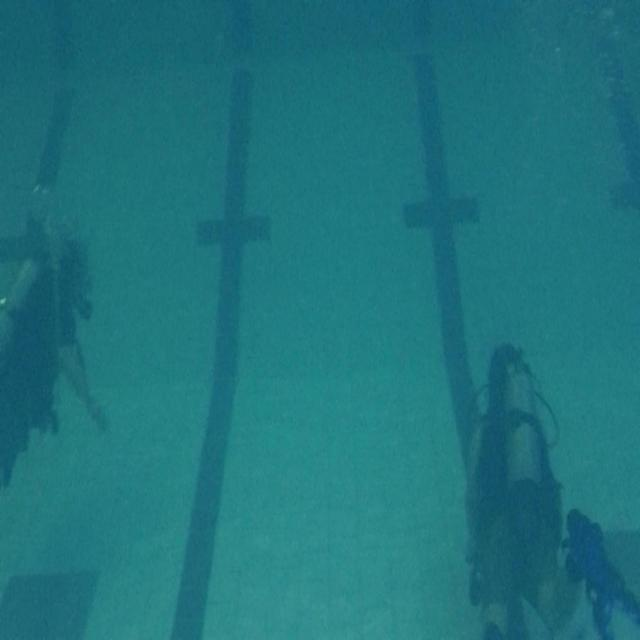human: (400, 50, 637, 638), (0, 88, 110, 489), (562, 506, 639, 638)
